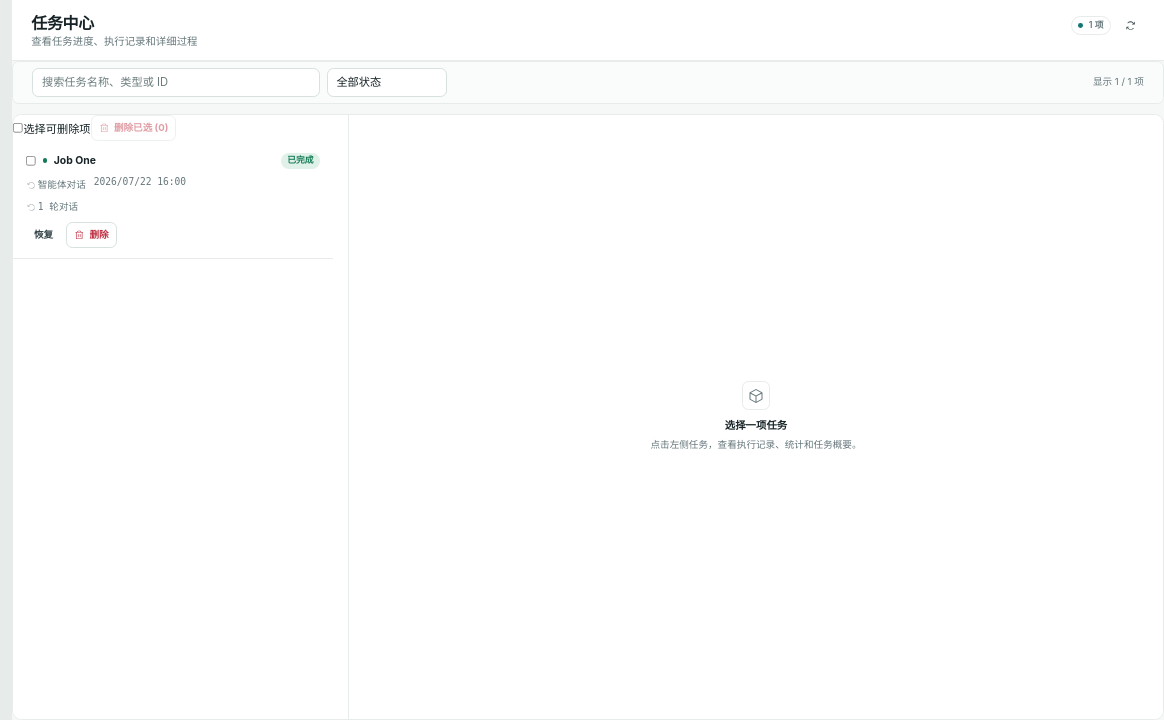
Test: OperationsPage › shows only runs attached to the selected job
Click the text "Job One": (75, 161) [54,154,96,167]
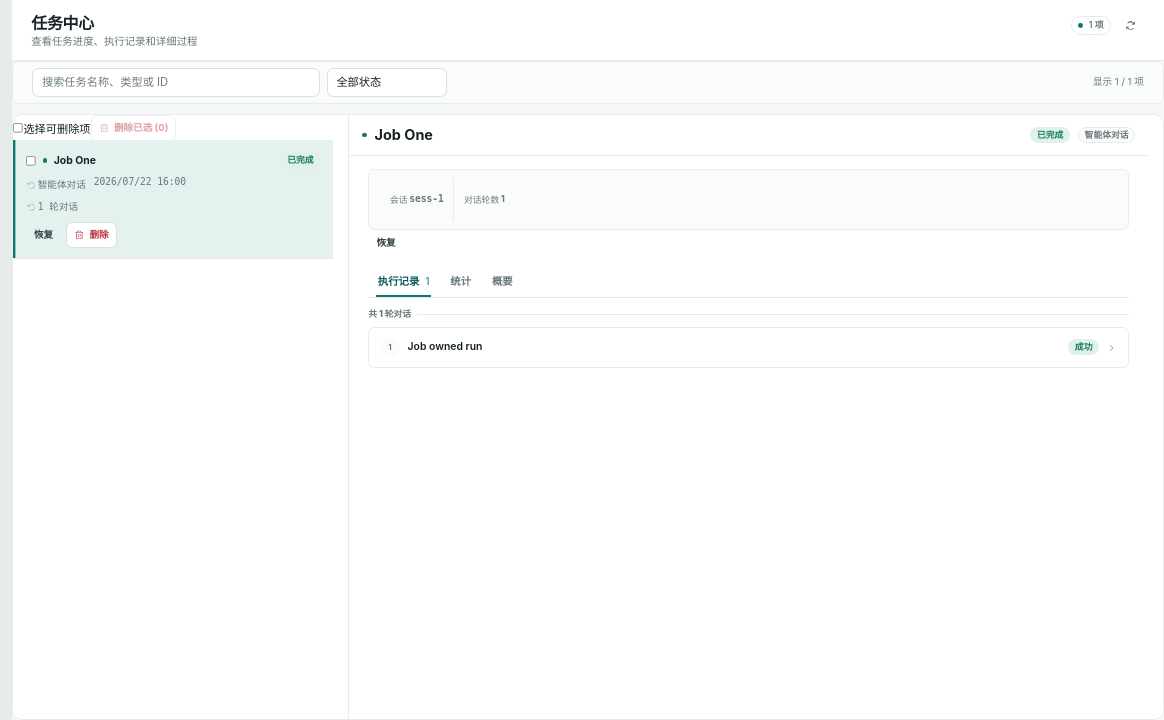
Result: the text "Job owned run" is shown at [408,340,482,353]
